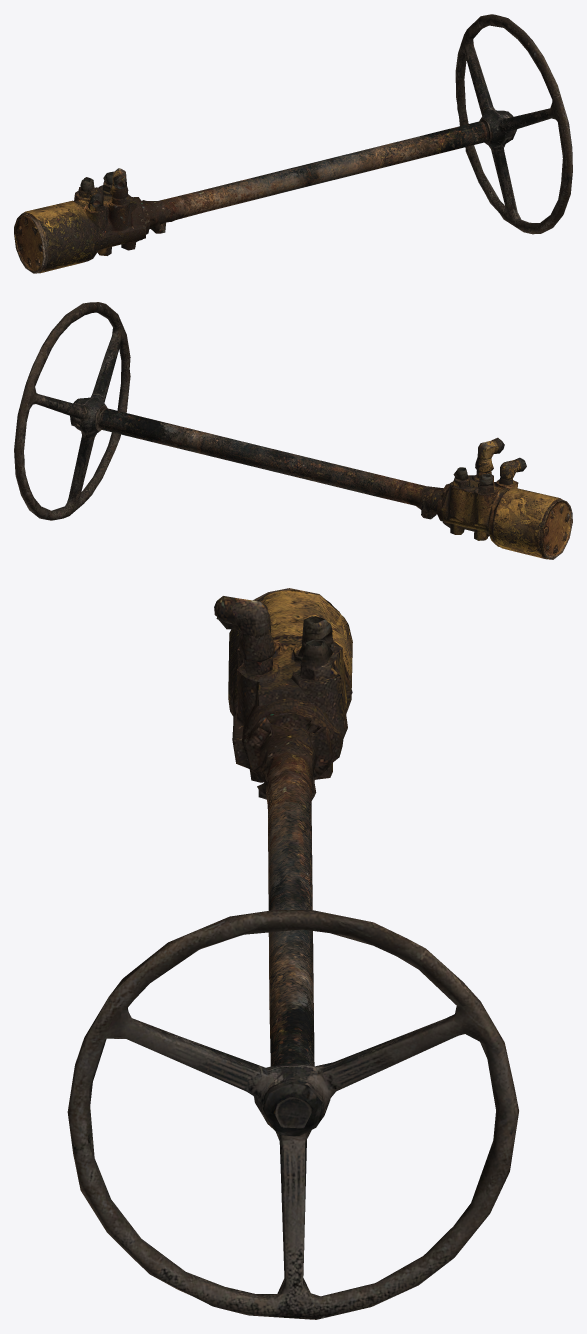
The model's file is SM_Ind_Jun_Wheel_Steering_Metal_Worn_05.gltf.
3 renders of one model, top to bottom at view 1: azimuth 30°, elevation 25°; view 2: azimuth 150°, elevation 25°; view 3: azimuth 270°, elevation 25°, orthographic. The views are drawn at different scales.
Parts seen in each view (by area): view 1: SM_Ind_Jun_Wheel_Steering_Metal_Worn_05; view 2: SM_Ind_Jun_Wheel_Steering_Metal_Worn_05; view 3: SM_Ind_Jun_Wheel_Steering_Metal_Worn_05.
Part boxes in pixels (box(x1,y1,x2,y2)): SM_Ind_Jun_Wheel_Steering_Metal_Worn_05: box(14, 14, 572, 273); SM_Ind_Jun_Wheel_Steering_Metal_Worn_05: box(14, 302, 572, 559); SM_Ind_Jun_Wheel_Steering_Metal_Worn_05: box(67, 588, 518, 1319).
Size of the model in its own units: 1.17 by 0.4613 by 0.4654.
Materials: 1 (1 with a texture image).
